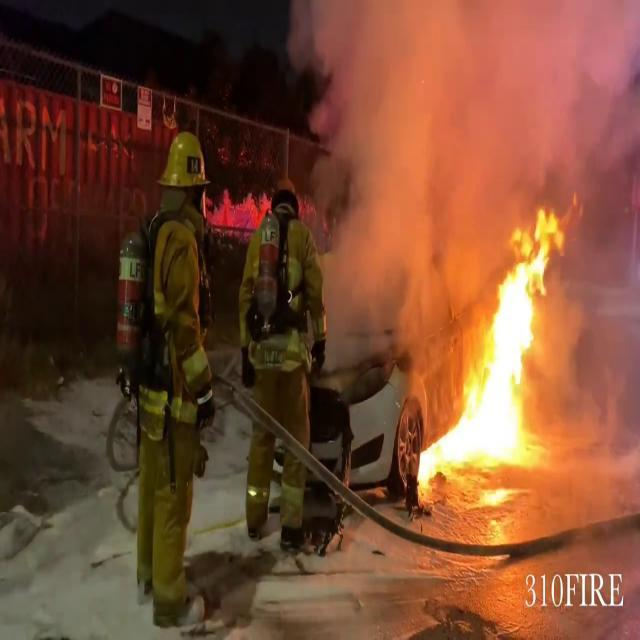Fire: (416, 200, 578, 490)
Smoke: (290, 0, 600, 327)
